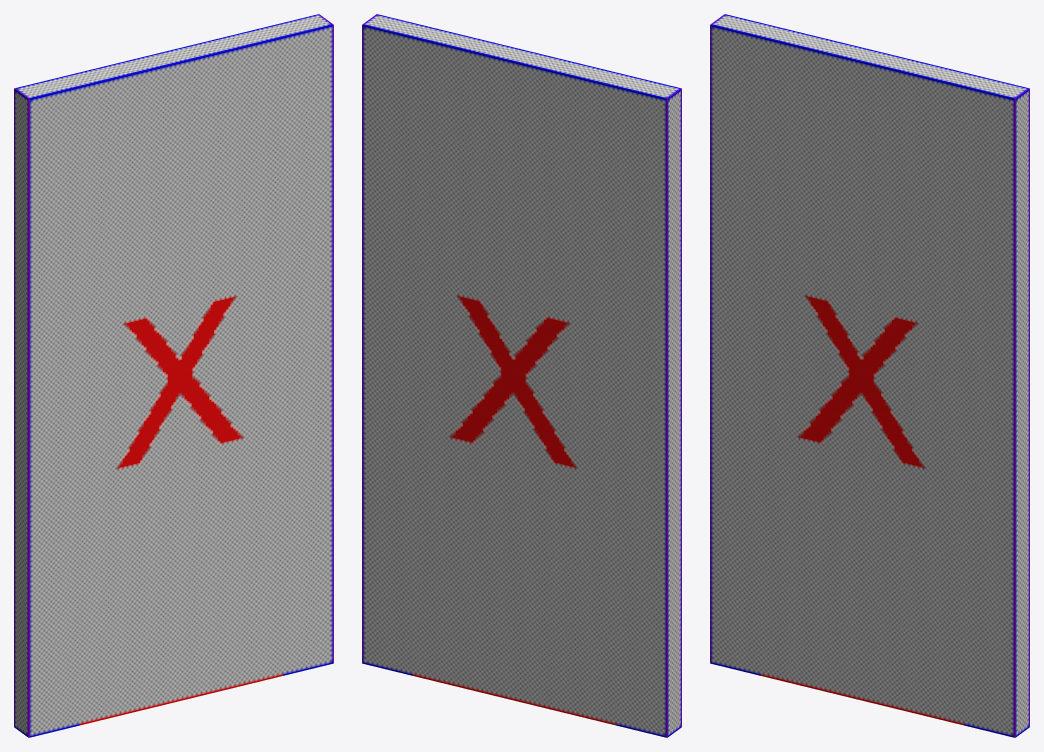
File: Details_Door_L.fbx
3 renders of one model, left to right at view 1: azimuth 30°, elevation 25°; view 2: azimuth 150°, elevation 25°; view 3: azimuth 330°, elevation 25°, orthographic.
Visible parts, largest first — view 1: Details_Door_L, Door_L; view 2: Details_Door_L, Door_L; view 3: Details_Door_L, Door_L.
Part boxes in pixels (x1,y1,x2,y2): Details_Door_L: [14, 14, 333, 737]; Door_L: [79, 250, 282, 725]; Details_Door_L: [362, 14, 681, 737]; Door_L: [413, 250, 616, 725]; Details_Door_L: [710, 14, 1029, 737]; Door_L: [761, 250, 964, 725].
Size of the model in its own units: 300 by 600 by 25.
